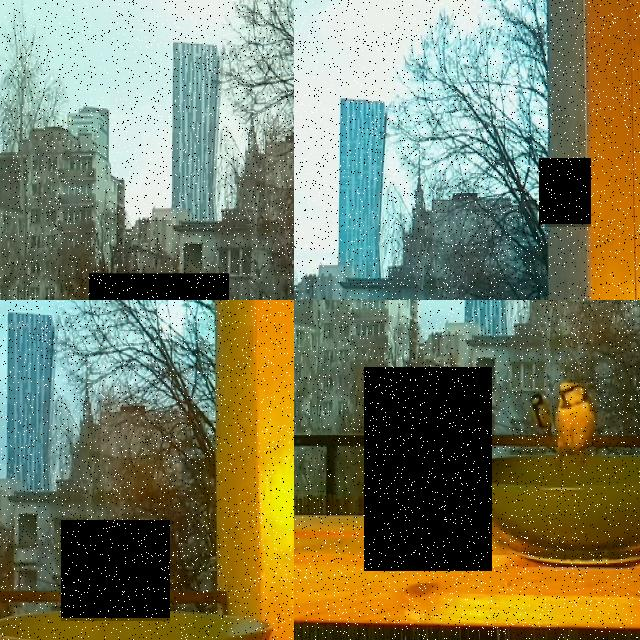Bogatka: (364, 367, 492, 571)
Modraszka: (61, 520, 170, 620), (555, 379, 599, 468), (539, 158, 591, 226)
Wrobel: (89, 273, 229, 300)
